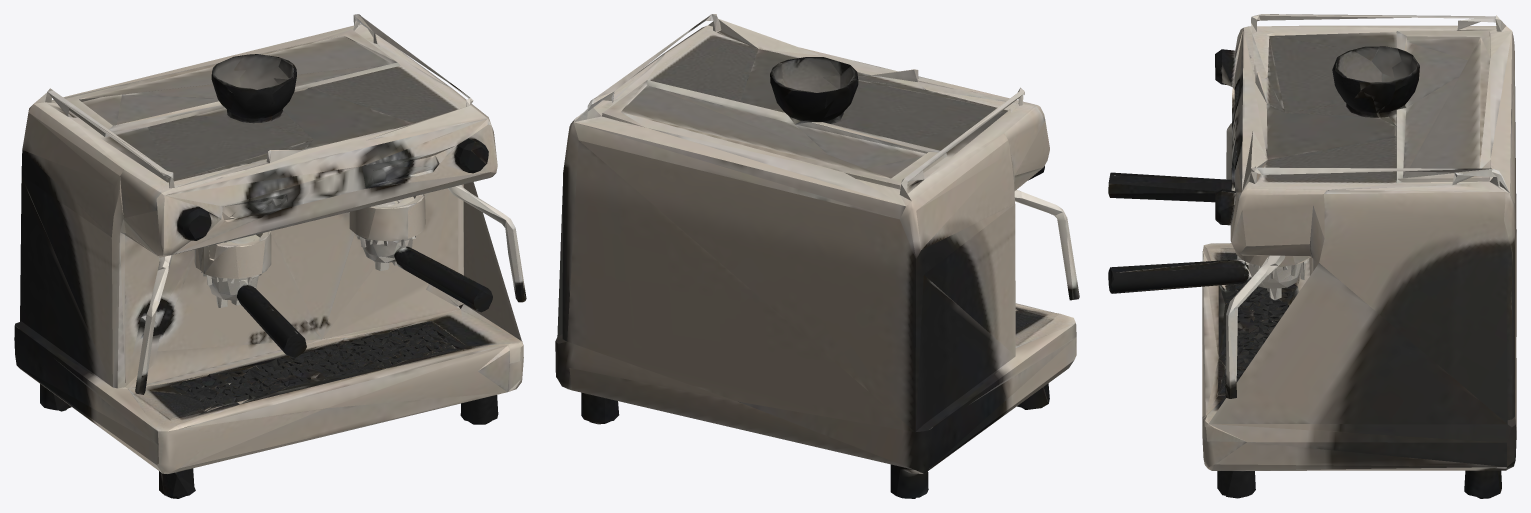
The model's file is espresso_machine.glb.
3 renders of one model, left to right at view 1: azimuth 30°, elevation 25°; view 2: azimuth 150°, elevation 25°; view 3: azimuth 270°, elevation 25°, orthographic. The views are drawn at different scales.
Size of the model in its own units: 1.9 by 1.57 by 1.66.
1 material, 1 textured.
